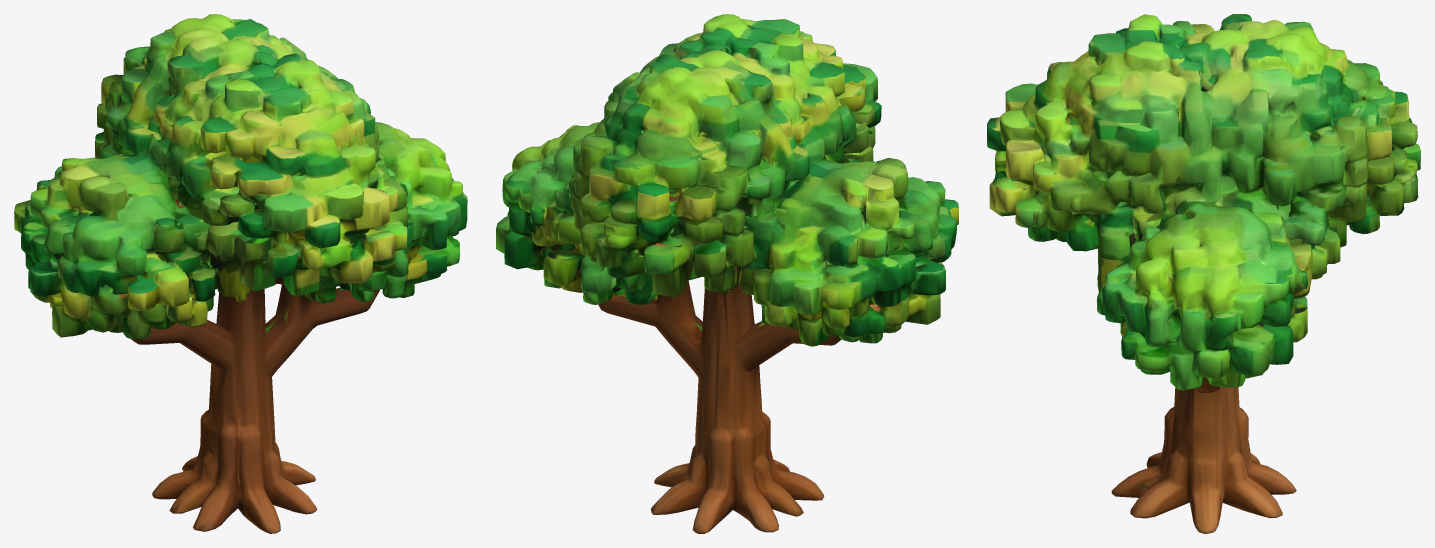
Rendered from fantasy_tree.glb.
The picture shows the model from 3 angles, left to right: view 1: azimuth 30°, elevation 25°; view 2: azimuth 150°, elevation 25°; view 3: azimuth 270°, elevation 25°; orthographic projection. The views are drawn at different scales.
Visible parts, largest first — view 1: Tree; view 2: Tree; view 3: Tree.
Part boxes in pixels (<box>): Tree: <box>14,14,467,533</box>; Tree: <box>496,14,958,533</box>; Tree: <box>987,14,1420,533</box>.
Bounding box in the file's own units: 3.96 × 4 × 3.34.
Materials: 1 (1 with a texture image).
